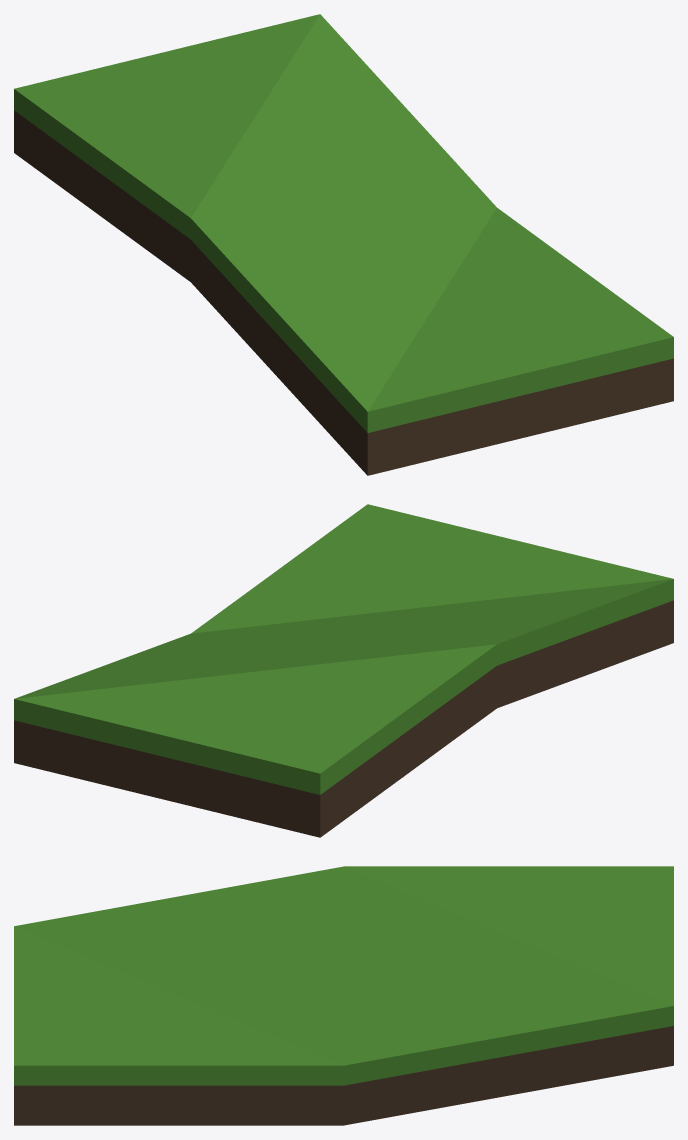
Rendered from tiles_tile-hill-curve.fbx.
3 renders of one model, top to bottom at view 1: azimuth 30°, elevation 25°; view 2: azimuth 150°, elevation 25°; view 3: azimuth 270°, elevation 25°, orthographic. The views are drawn at different scales.
Parts seen in each view (by area): view 1: tiles_tile_hill_curve; view 2: tiles_tile_hill_curve; view 3: tiles_tile_hill_curve.
Part boxes in pixels (left/top/right/bottom): tiles_tile_hill_curve: left=14, top=14, right=673, bottom=475; tiles_tile_hill_curve: left=14, top=504, right=673, bottom=837; tiles_tile_hill_curve: left=14, top=866, right=673, bottom=1125.
Size of the model in its own units: 100 by 40 by 200.
